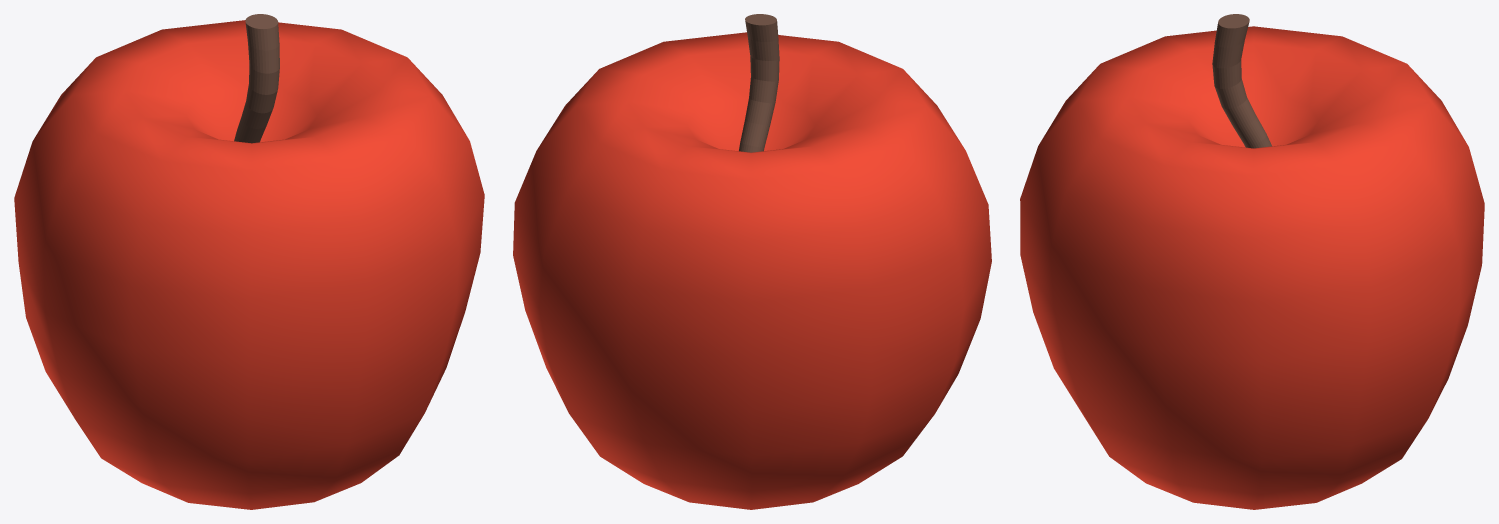
File: cabeza 1.fbx
3 views of the same model, side by side, from view 1: azimuth 30°, elevation 25°; view 2: azimuth 150°, elevation 25°; view 3: azimuth 270°, elevation 25° (orthographic). The views are drawn at different scales.
Visible parts, largest first — view 1: Apple; view 2: Apple; view 3: Apple.
Part boxes in pixels (x1,y1,x2,y2): Apple: (14,14,484,509); Apple: (513,14,991,509); Apple: (1020,14,1484,509).
Bounding box in the file's own units: 169 × 179 × 162.
